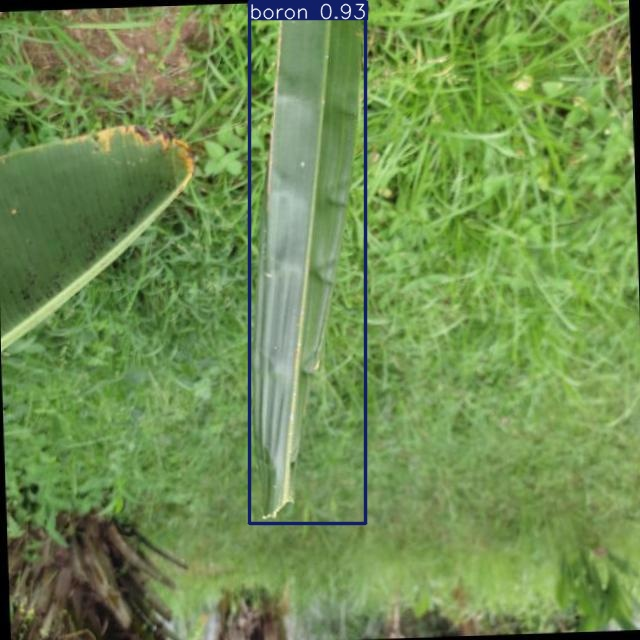nitrogen: (250, 1, 365, 524)
